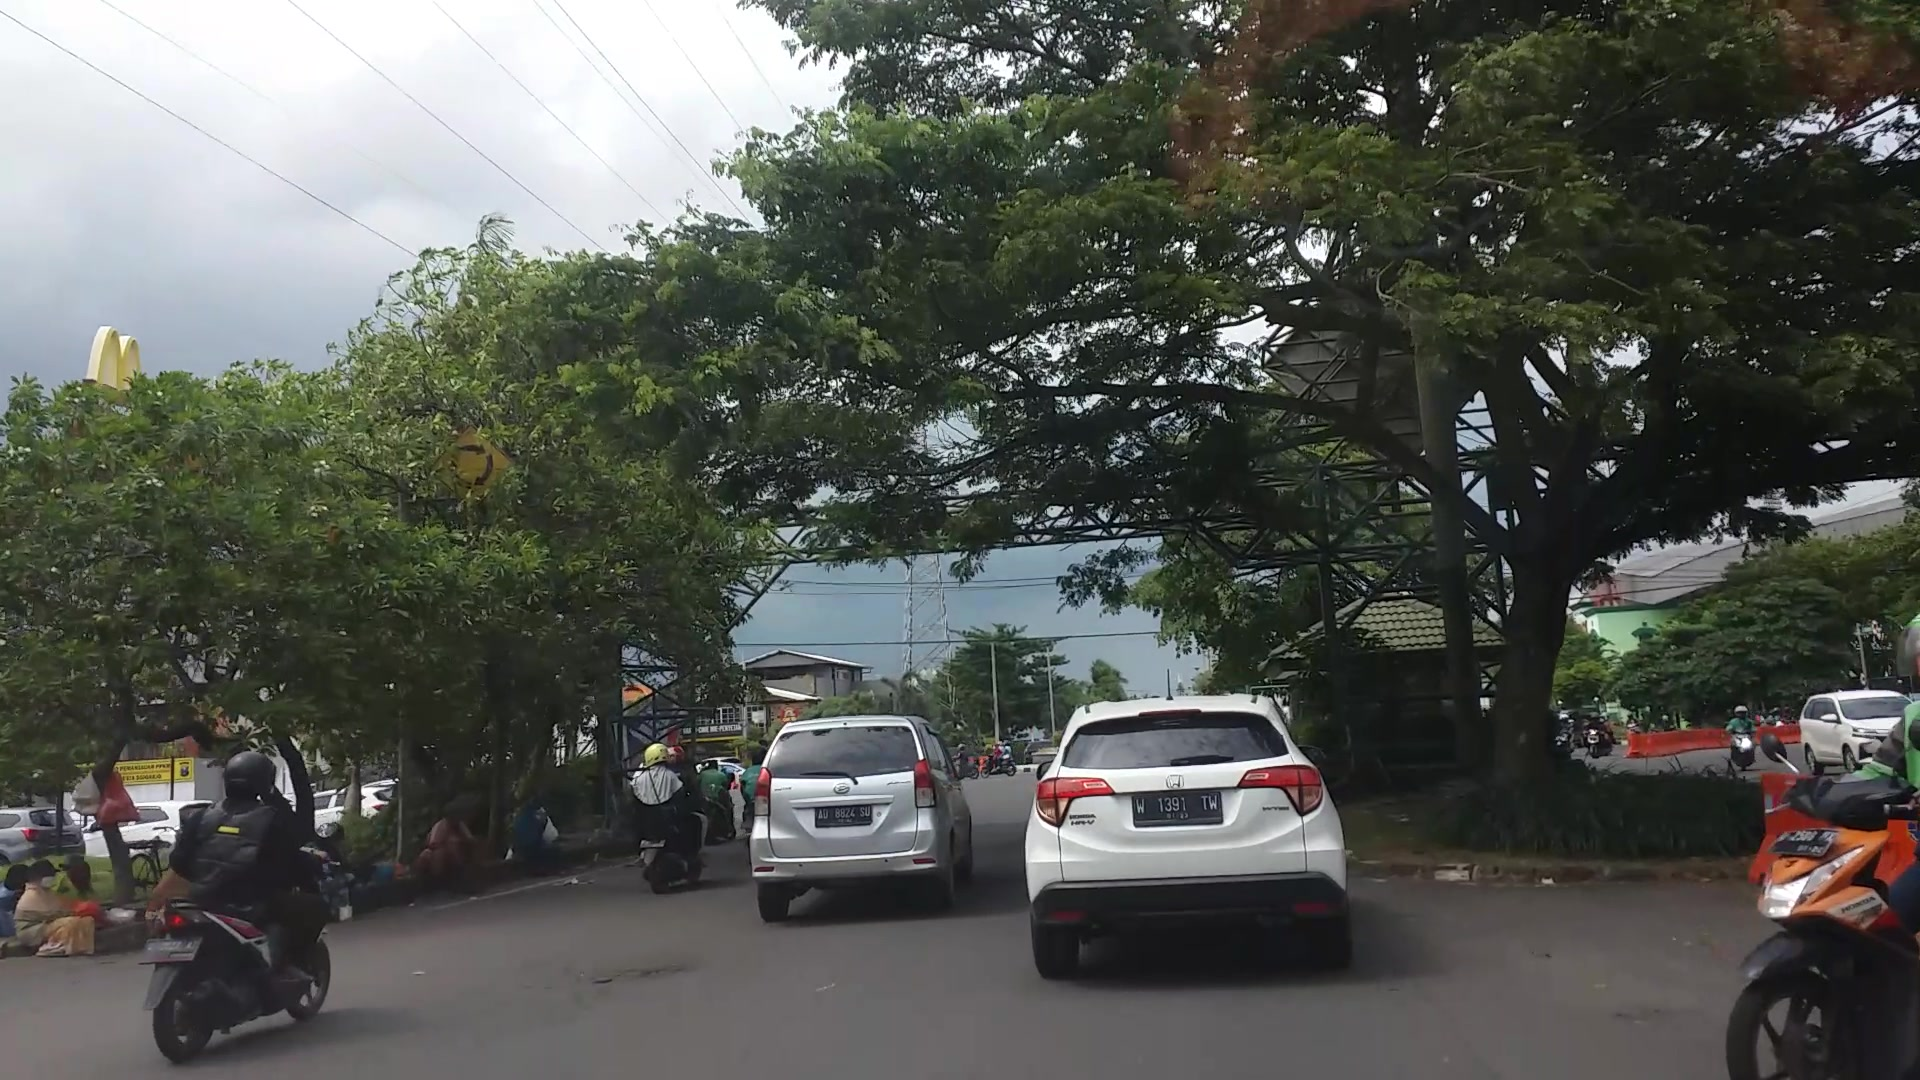plate_positive: (1131, 793, 1222, 824), (814, 804, 872, 825)
